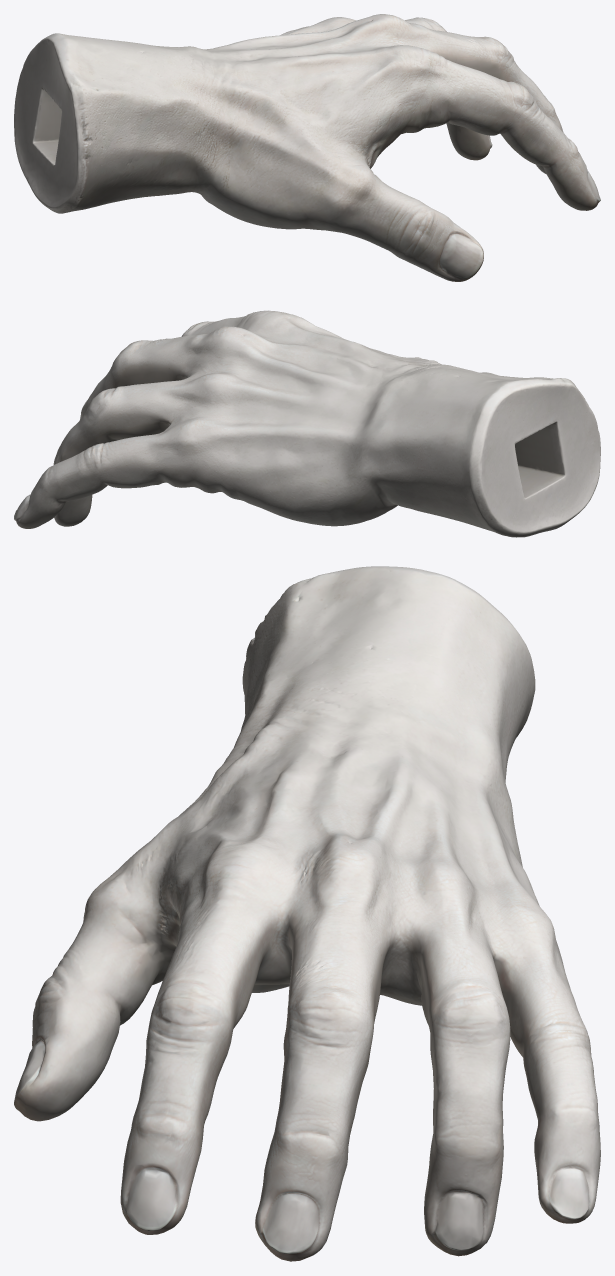
Rendered from ceiling-hand.glb.
The picture shows the model from 3 angles, top to bottom: view 1: azimuth 30°, elevation 25°; view 2: azimuth 150°, elevation 25°; view 3: azimuth 270°, elevation 25°; orthographic projection. The views are drawn at different scales.
Visible parts, largest first — view 1: tripo_node_90c5a21b-e0d0-44c0-9097-230e3ff1b2e4; view 2: tripo_node_90c5a21b-e0d0-44c0-9097-230e3ff1b2e4; view 3: tripo_node_90c5a21b-e0d0-44c0-9097-230e3ff1b2e4.
Part boxes in pixels (bbox=[...]): tripo_node_90c5a21b-e0d0-44c0-9097-230e3ff1b2e4: bbox=[14, 14, 600, 281]; tripo_node_90c5a21b-e0d0-44c0-9097-230e3ff1b2e4: bbox=[14, 310, 600, 537]; tripo_node_90c5a21b-e0d0-44c0-9097-230e3ff1b2e4: bbox=[14, 566, 600, 1261].
Bounding box in the file's own units: 0.9799 × 0.4246 × 0.6234.
1 material, 1 textured.
